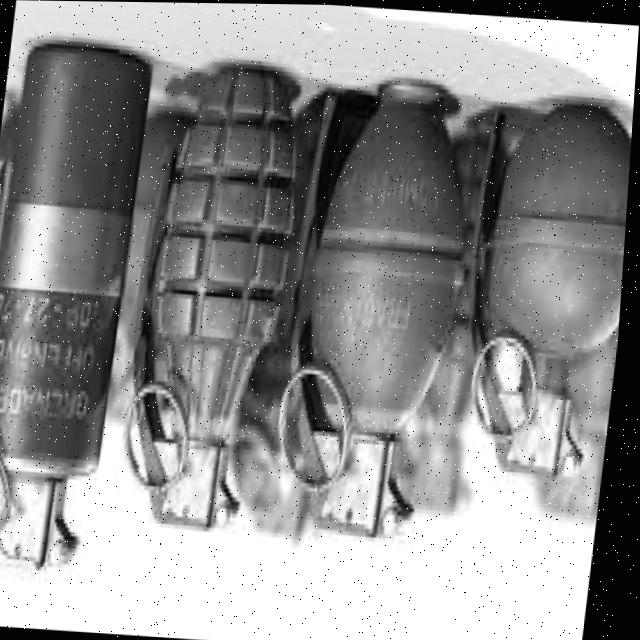grenade: (263, 67, 494, 552), (109, 93, 312, 552), (0, 39, 161, 577), (461, 98, 635, 492)
